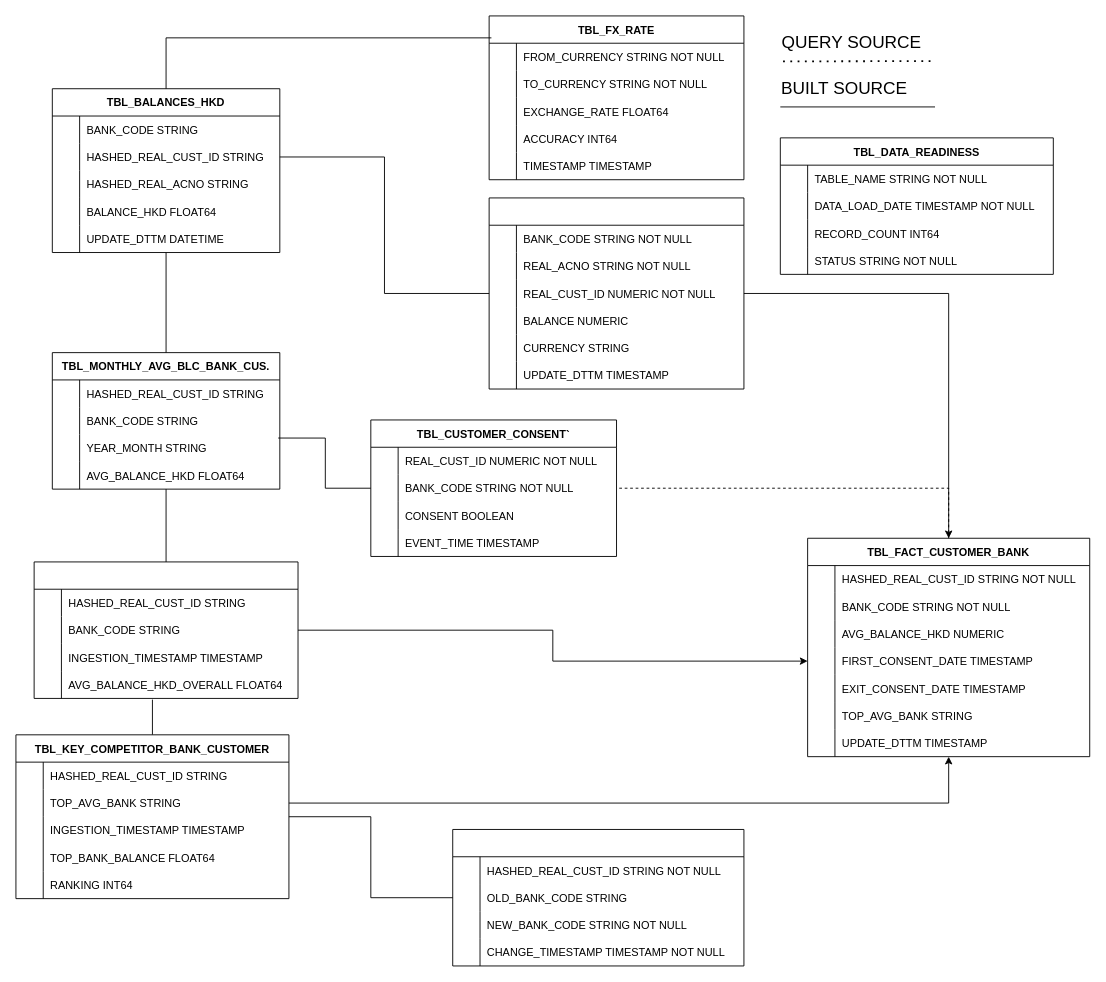
Some shapes in this 1106 by 982 pixel diagram are drawn without their labels. Each missing label, with the box of its shape:
TBL_AVG_BALANCES_BANK_CUSTOMER: (33, 561, 298, 698)
TBL_BANK_COMPETITOR_CHANGE_EVENTS: (452, 829, 744, 966)
TBL_OB_ACCOUNT: (488, 197, 744, 389)
